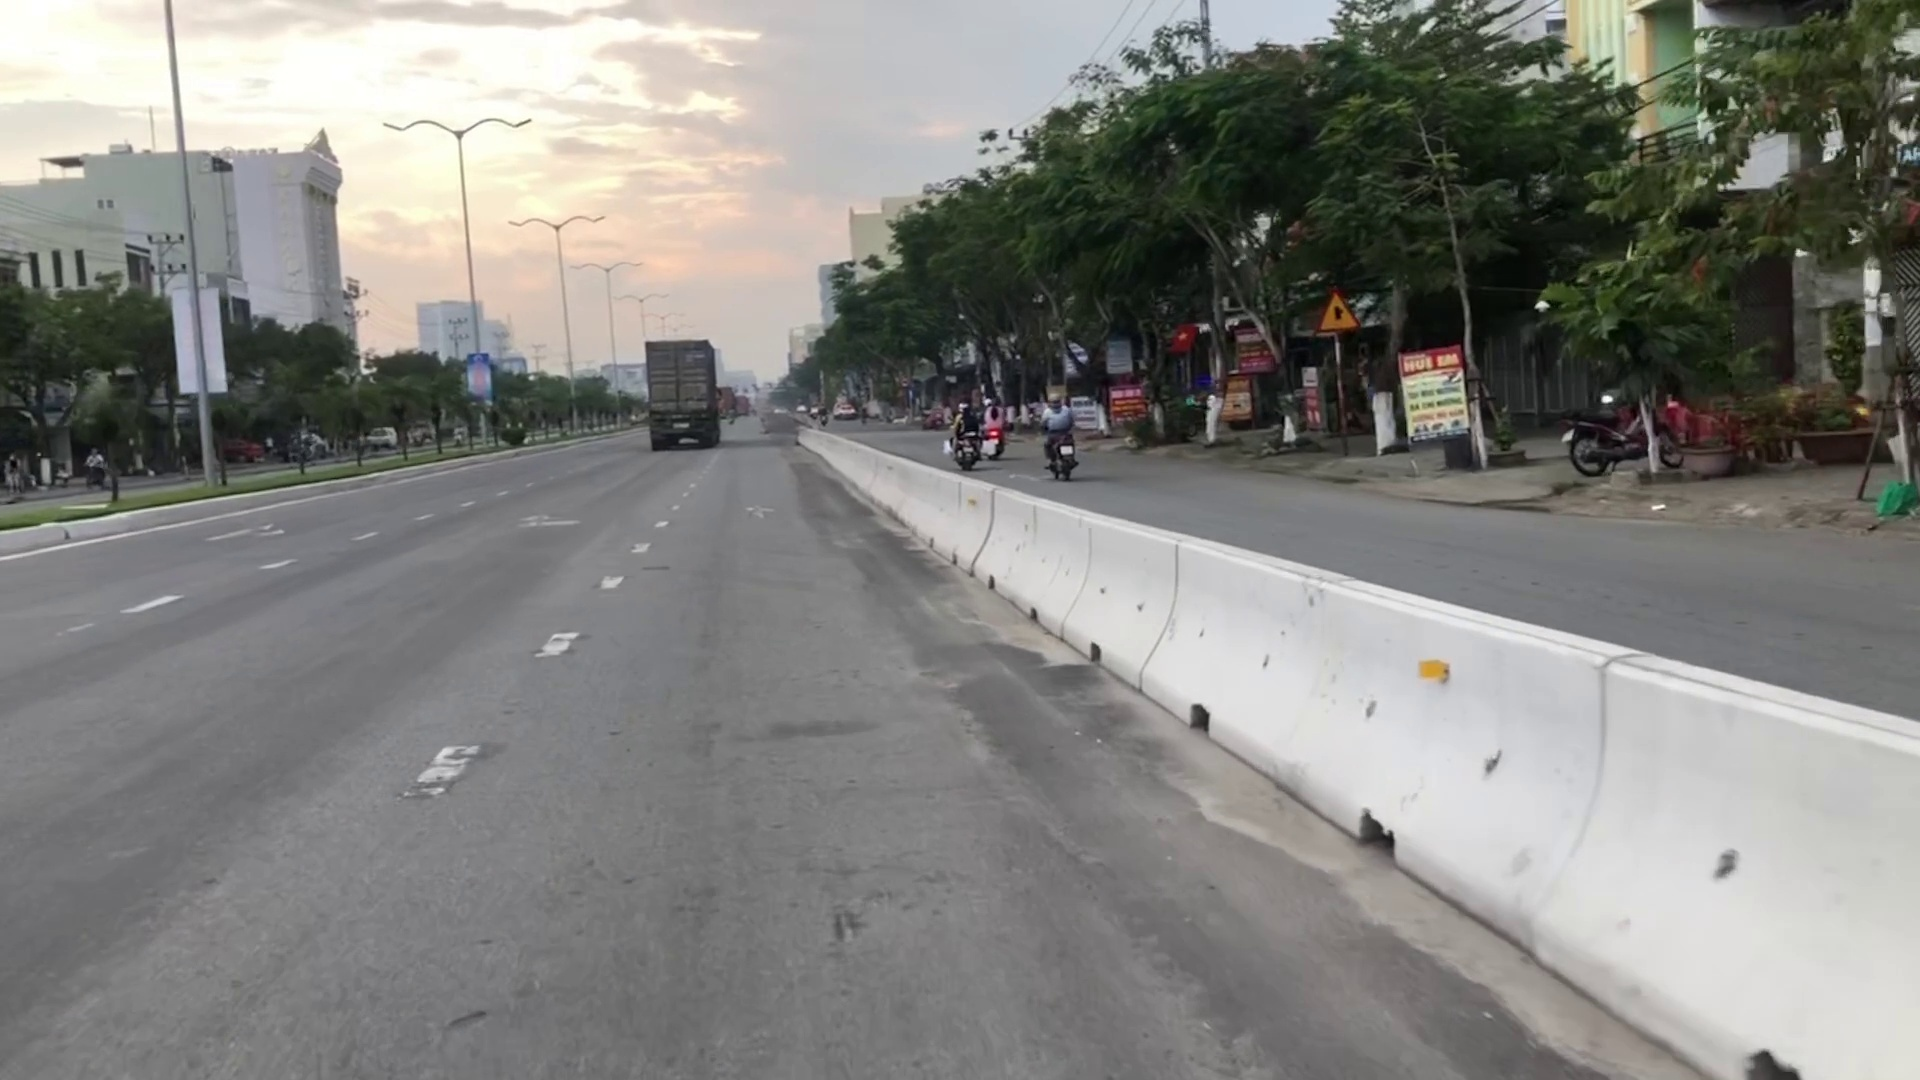Bien khac: (1307, 287, 1358, 335)
